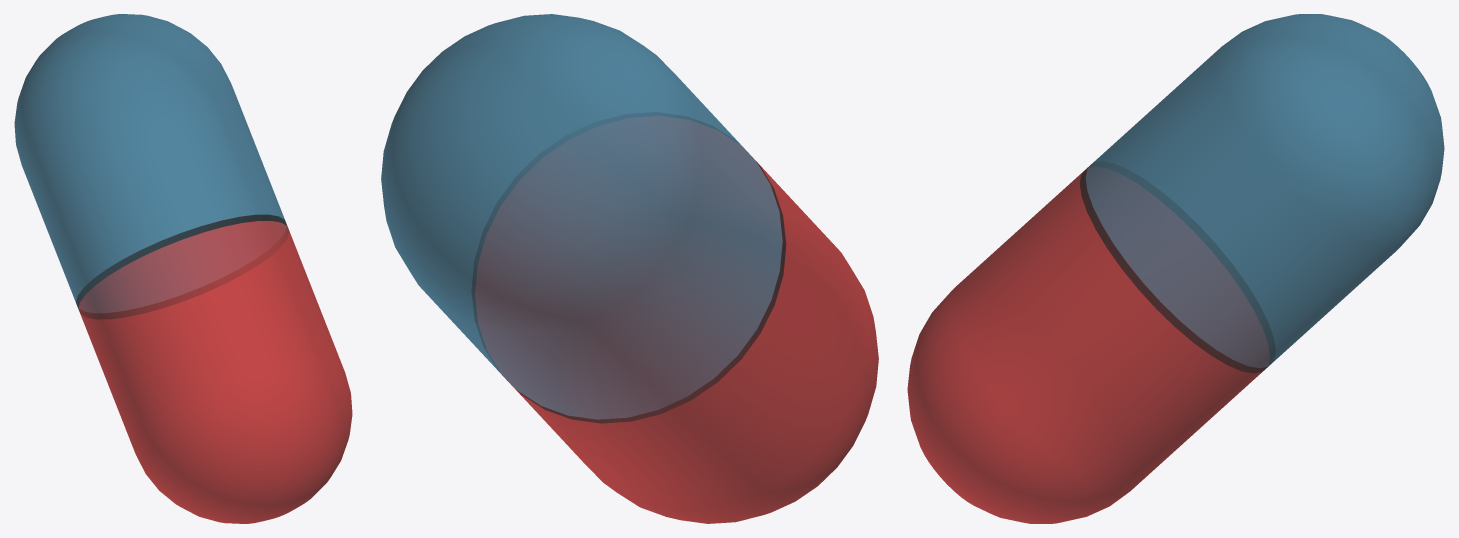
Rendered from pill.glb.
3 renders of one model, left to right at view 1: azimuth 30°, elevation 25°; view 2: azimuth 150°, elevation 25°; view 3: azimuth 270°, elevation 25°, orthographic. The views are drawn at different scales.
Visible parts, largest first — view 1: Sphere; view 2: Sphere; view 3: Sphere.
Part boxes in pixels (<box>): Sphere: <box>14,14,352,523</box>; Sphere: <box>381,14,878,523</box>; Sphere: <box>907,14,1444,523</box>.
Bounding box in the file's own units: 2 × 3.98 × 3.98.
1 material, 1 textured.
